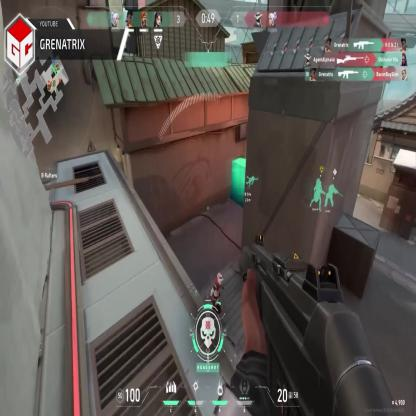enemy: (210, 268, 223, 332)
enemy_head: (217, 273, 223, 285)
